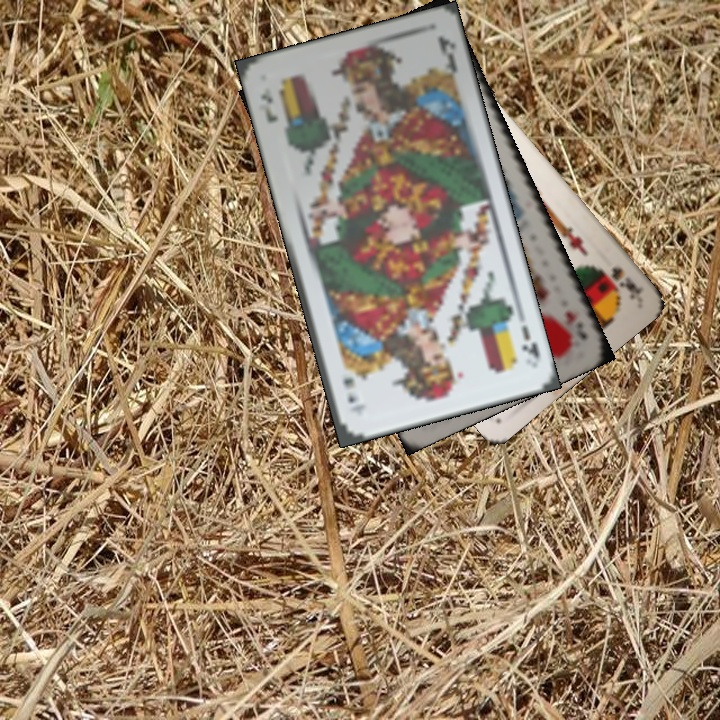EK: (517, 322, 543, 367), (255, 84, 281, 126)
HK: (561, 307, 591, 342)
SK: (595, 262, 646, 302)
